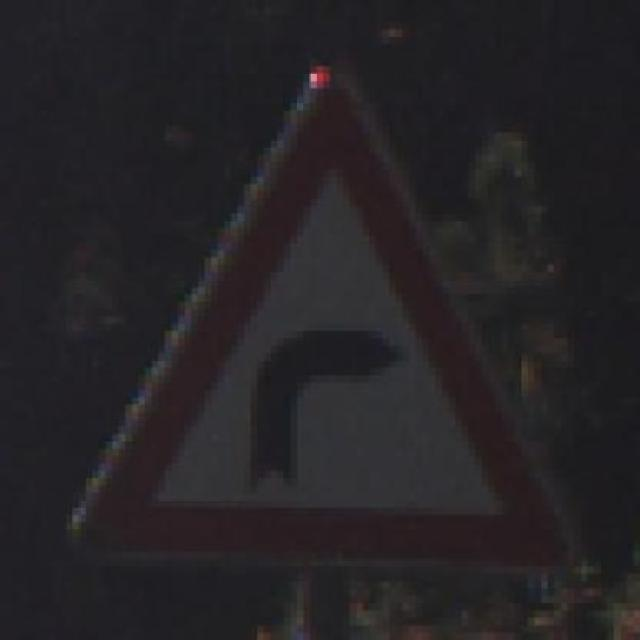Dangerous Rright Curve Ahead: (72, 66, 588, 574)
